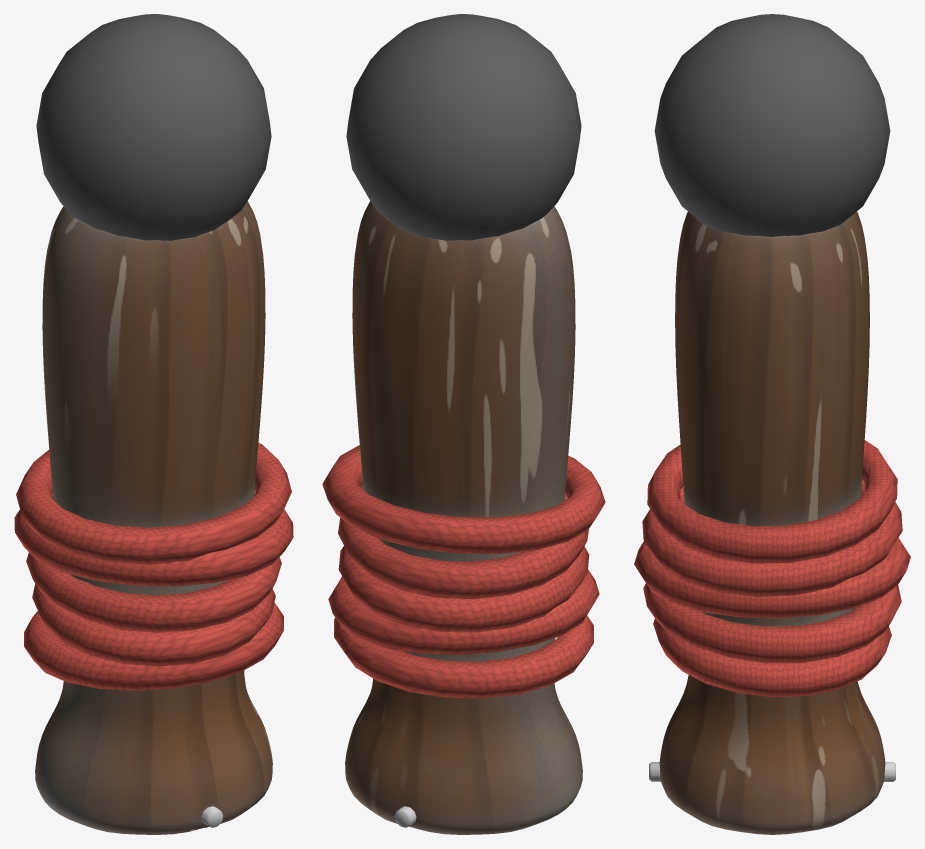
Rendered from LowerArm_L.glb.
The picture shows the model from 3 angles, left to right: view 1: azimuth 30°, elevation 25°; view 2: azimuth 150°, elevation 25°; view 3: azimuth 270°, elevation 25°; orthographic projection.
Visible parts, largest first — view 1: LowerArm_L, LowerArm_L_Wrap, LowerArm_L_Ball; view 2: LowerArm_L, LowerArm_L_Wrap, LowerArm_L_Ball; view 3: LowerArm_L, LowerArm_L_Wrap, LowerArm_L_Ball.
Part boxes in pixels (x1,y1,x2,y2): LowerArm_L: (35, 201, 272, 834); LowerArm_L_Wrap: (14, 442, 293, 690); LowerArm_L_Ball: (36, 14, 271, 240); LowerArm_L: (345, 201, 582, 834); LowerArm_L_Wrap: (322, 445, 605, 698); LowerArm_L_Ball: (346, 14, 581, 240); LowerArm_L: (659, 211, 885, 834); LowerArm_L_Wrap: (634, 440, 910, 697); LowerArm_L_Ball: (654, 14, 890, 236).
Bounding box in the file's own units: 0.109 × 0.3235 × 0.1058.
Materials: 4 (2 with a texture image).
